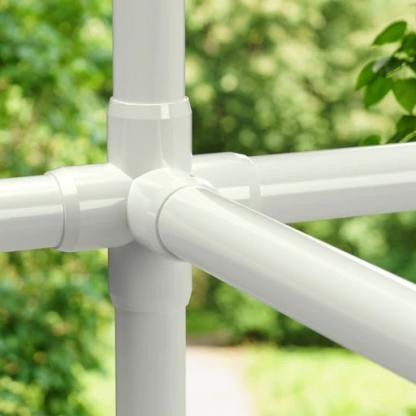PVC: (1, 1, 415, 415)
